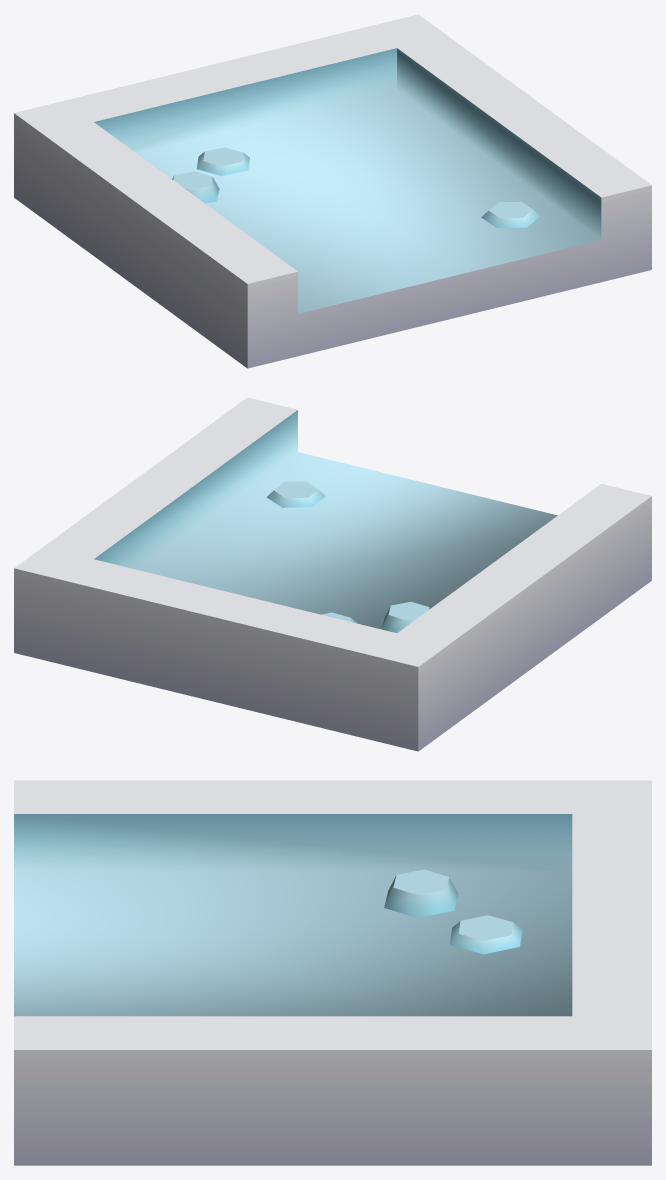
Rendered from kenney-tower-defense-snow-tile-end.glb.
3 views of the same model, one above another, from view 1: azimuth 30°, elevation 25°; view 2: azimuth 150°, elevation 25°; view 3: azimuth 270°, elevation 25° (orthographic). The views are drawn at different scales.
Parts seen in each view (by area): view 1: snow-tile-end; view 2: snow-tile-end; view 3: snow-tile-end.
Boxes of the visible parts, left/top/right/bottom form: snow-tile-end: left=14, top=14, right=651, bottom=368; snow-tile-end: left=14, top=397, right=651, bottom=751; snow-tile-end: left=14, top=780, right=651, bottom=1165.
Size of the model in its own units: 1 by 0.2 by 1.
1 material, 1 textured.
